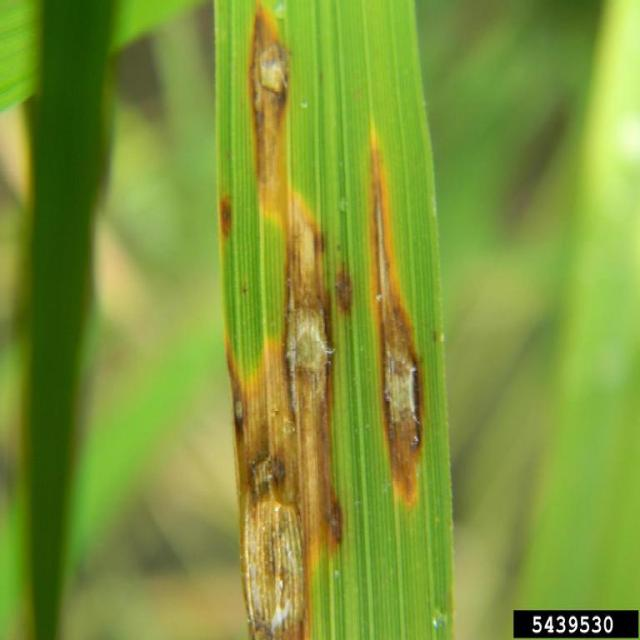Leaf blast: (235, 5, 364, 640), (365, 128, 432, 517)
